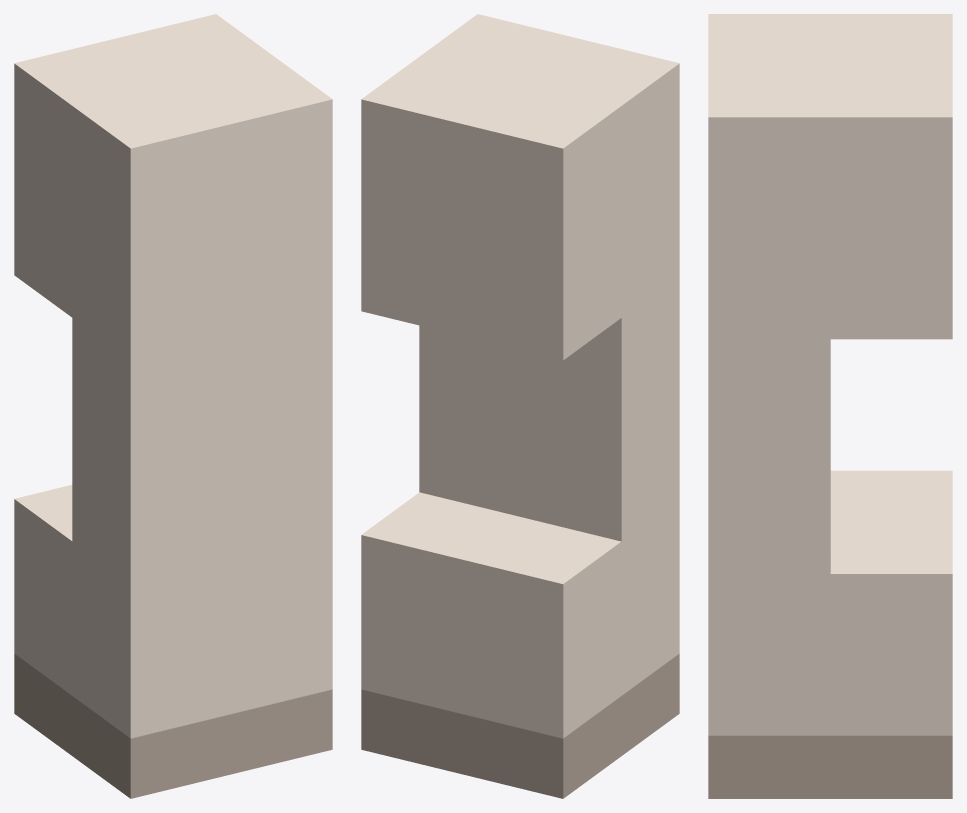
The model's file is mesh_window_left.obj.
The picture shows the model from 3 angles, left to right: view 1: azimuth 30°, elevation 25°; view 2: azimuth 150°, elevation 25°; view 3: azimuth 270°, elevation 25°; orthographic projection. The views are drawn at different scales.
Visible parts, largest first — view 1: Cube; view 2: Cube; view 3: Cube.
Boxes of the visible parts, left/top/right/bottom form: Cube: left=14, top=14, right=332, bottom=798; Cube: left=361, top=14, right=679, bottom=798; Cube: left=708, top=14, right=952, bottom=798.
Bounding box in the file's own units: 4 × 12.3 × 4.
1 material, 1 textured.
